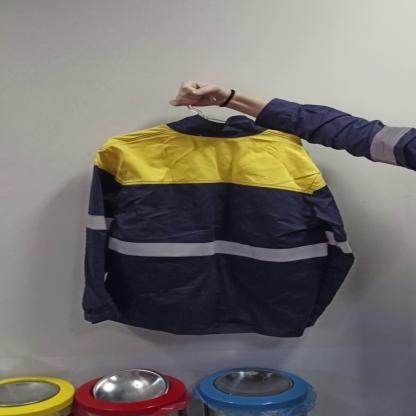C_eletrica: (83, 113, 359, 339)
